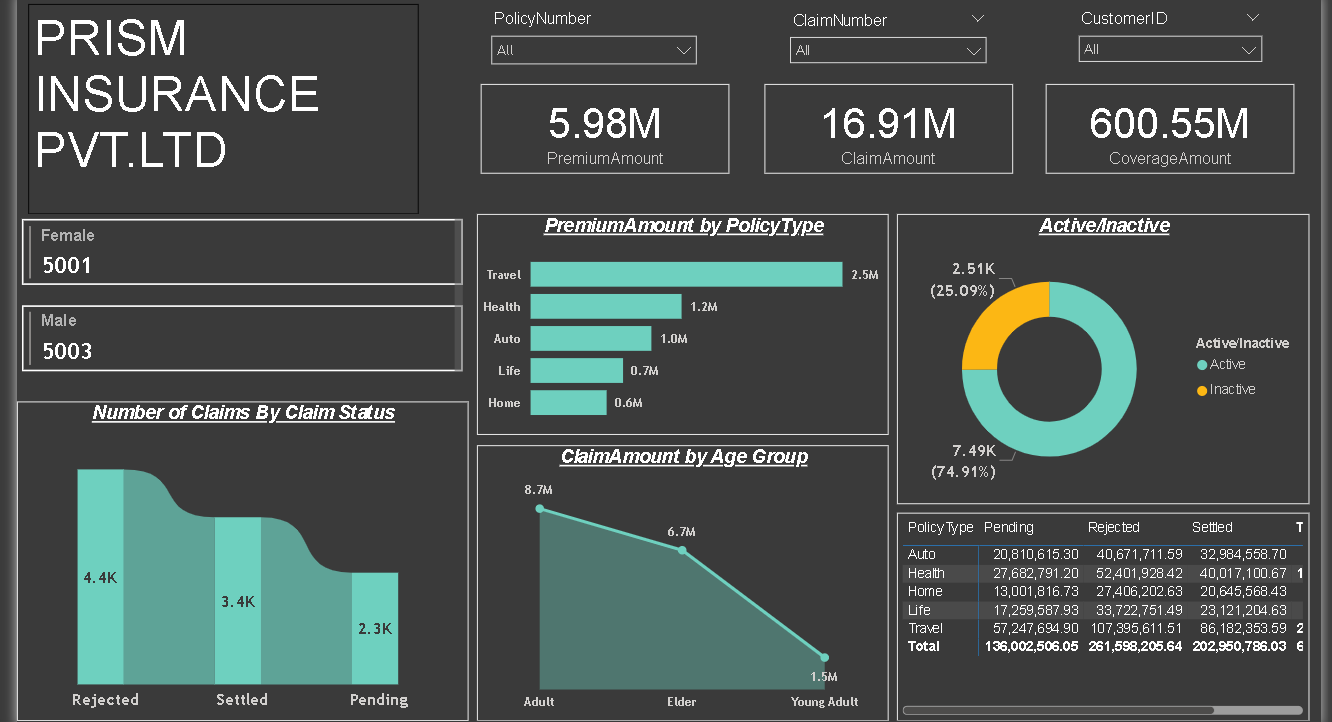

This screenshot's page, from the dashboard's own definition file:
{"tool":"powerbi","page":{"name":"Page 1","canvas":[1280,720],"ordinal":0},"visuals":[{"type":"slicer","fields":{"Values":["InsuranceData.PolicyNumber"]},"box":[455.2,9.8,222.1,78.5],"z":0},{"type":"slicer","fields":{"Values":["InsuranceData.CustomerID"]},"box":[1031.9,9.8,200,69.9],"z":1000},{"type":"slicer","fields":{"Values":["InsuranceData.ClaimNumber"]},"box":[748.5,11,213.5,68.7],"z":2000},{"type":"textbox","box":[11,9.8,382.8,206.1],"z":3000},{"type":"card","fields":{"Values":["Sum(InsuranceData.PremiumAmount)"]},"box":[455.2,88.3,244.2,88.3],"z":4000},{"type":"multiRowCard","fields":{"Values":["InsuranceData.Gender","CountNonNull(InsuranceData.Gender)"]},"box":[0,216,442.9,171.8],"z":5000},{"type":"ribbonChart","title":"Number of Claims By Claim Status","fields":{"Category":["InsuranceData.ClaimStatus"],"Y":["CountNonNull(InsuranceData.ClaimStatus)"]},"box":[0,400,442.9,314.1],"z":6000},{"type":"barChart","title":"PremiumAmount by PolicyType","fields":{"Category":["InsuranceData.PolicyType"],"Y":["Sum(InsuranceData.PremiumAmount)"]},"box":[451.5,216,403.7,217.2],"z":7000},{"type":"lineChart","title":"ClaimAmount by Age Group","fields":{"Category":["InsuranceData.Age Group"],"Y":["Sum(InsuranceData.ClaimAmount)"]},"box":[451.5,442.9,403.7,271.2],"z":8000},{"type":"donutChart","title":"Active/Inactive","fields":{"Category":["InsuranceData.Active/Inactive"],"Y":["CountNonNull(InsuranceData.Active/Inactive)"]},"box":[863.8,216,404.9,284.7],"z":9000},{"type":"pivotTable","fields":{"Values":["Sum(InsuranceData.CoverageAmount)"],"Rows":["InsuranceData.PolicyType"],"Columns":["InsuranceData.ClaimStatus"]},"box":[863.8,509.2,404.9,204.9],"z":10000},{"type":"card","fields":{"Values":["Sum(InsuranceData.CoverageAmount)"]},"box":[1009.8,88.3,244.2,88.3],"z":11000},{"type":"card","fields":{"Values":["Sum(InsuranceData.ClaimAmount)"]},"box":[733.7,88.3,244.2,88.3],"z":12000}]}

Visuals, with their boxes on the page's 1280x720 design canvas (x1, y1, x2, y2). These are canvas units, not pixel positions in the 1332x722 screenshot, which may show the page scaled, cropped or inside an application window:
slicer - InsuranceData.PolicyNumber: pyautogui.locateOnScreen(455, 10, 677, 88)
slicer - InsuranceData.CustomerID: pyautogui.locateOnScreen(1032, 10, 1232, 80)
slicer - InsuranceData.ClaimNumber: pyautogui.locateOnScreen(748, 11, 962, 80)
textbox: pyautogui.locateOnScreen(11, 10, 394, 216)
card - Sum(InsuranceData.PremiumAmount): pyautogui.locateOnScreen(455, 88, 699, 177)
multiRowCard - InsuranceData.Gender x CountNonNull(InsuranceData.Gender): pyautogui.locateOnScreen(0, 216, 443, 388)
"Number of Claims By Claim Status" ribbonChart: pyautogui.locateOnScreen(0, 400, 443, 714)
"PremiumAmount by PolicyType" barChart: pyautogui.locateOnScreen(452, 216, 855, 433)
"ClaimAmount by Age Group" lineChart: pyautogui.locateOnScreen(452, 443, 855, 714)
"Active/Inactive" donutChart: pyautogui.locateOnScreen(864, 216, 1269, 501)
pivotTable - Sum(InsuranceData.CoverageAmount) x InsuranceData.PolicyType: pyautogui.locateOnScreen(864, 509, 1269, 714)
card - Sum(InsuranceData.CoverageAmount): pyautogui.locateOnScreen(1010, 88, 1254, 177)
card - Sum(InsuranceData.ClaimAmount): pyautogui.locateOnScreen(734, 88, 978, 177)
